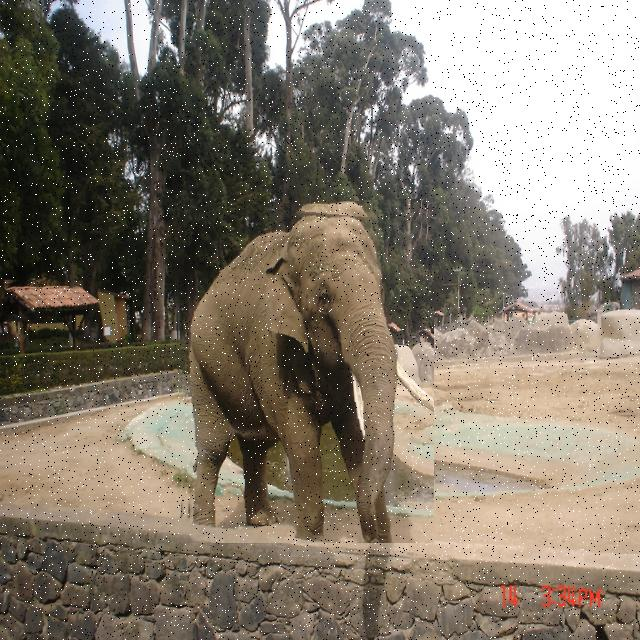elephant: (175, 200, 434, 543)
